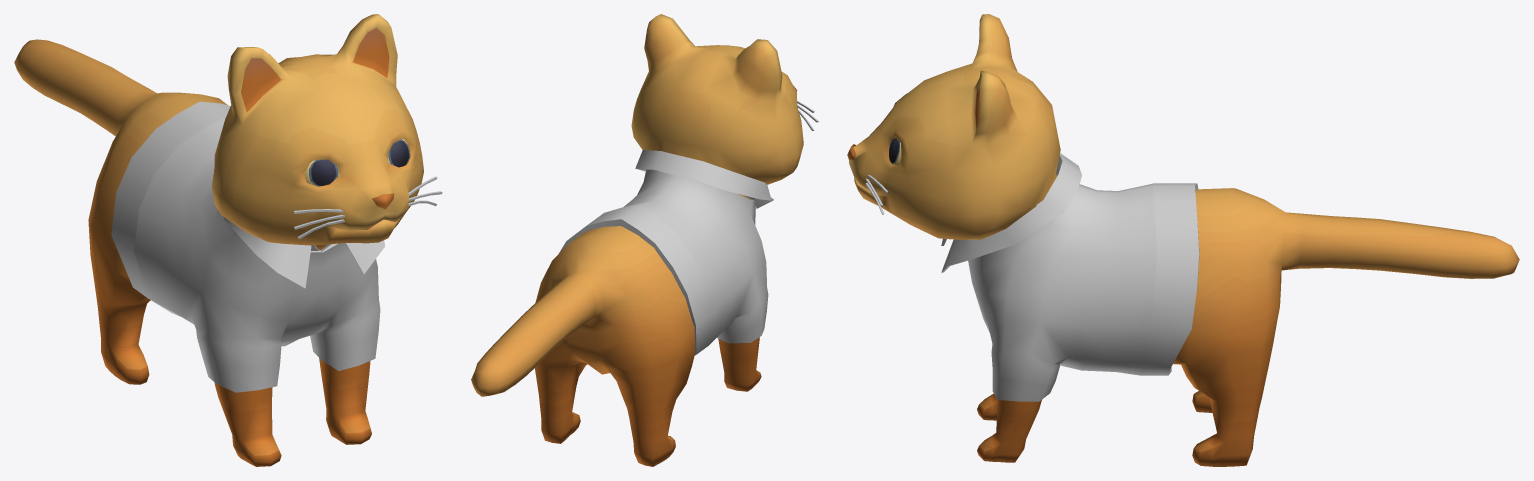
File: Staff Cat.obj
3 renders of one model, left to right at view 1: azimuth 30°, elevation 25°; view 2: azimuth 150°, elevation 25°; view 3: azimuth 270°, elevation 25°, orthographic. The views are drawn at different scales.
Parts seen in each view (by area): view 1: Cat001, Clothes; view 2: Cat001, Clothes; view 3: Cat001, Clothes.
Boxes of the visible parts, x1,y1,x2,y2 form: Cat001: (14,14,442,466); Clothes: (111,101,385,392); Cat001: (471,14,818,466); Clothes: (559,150,773,355); Cat001: (847,14,1519,466); Clothes: (941,153,1199,401).
Size of the model in its own units: 70.69 by 146 by 227.
